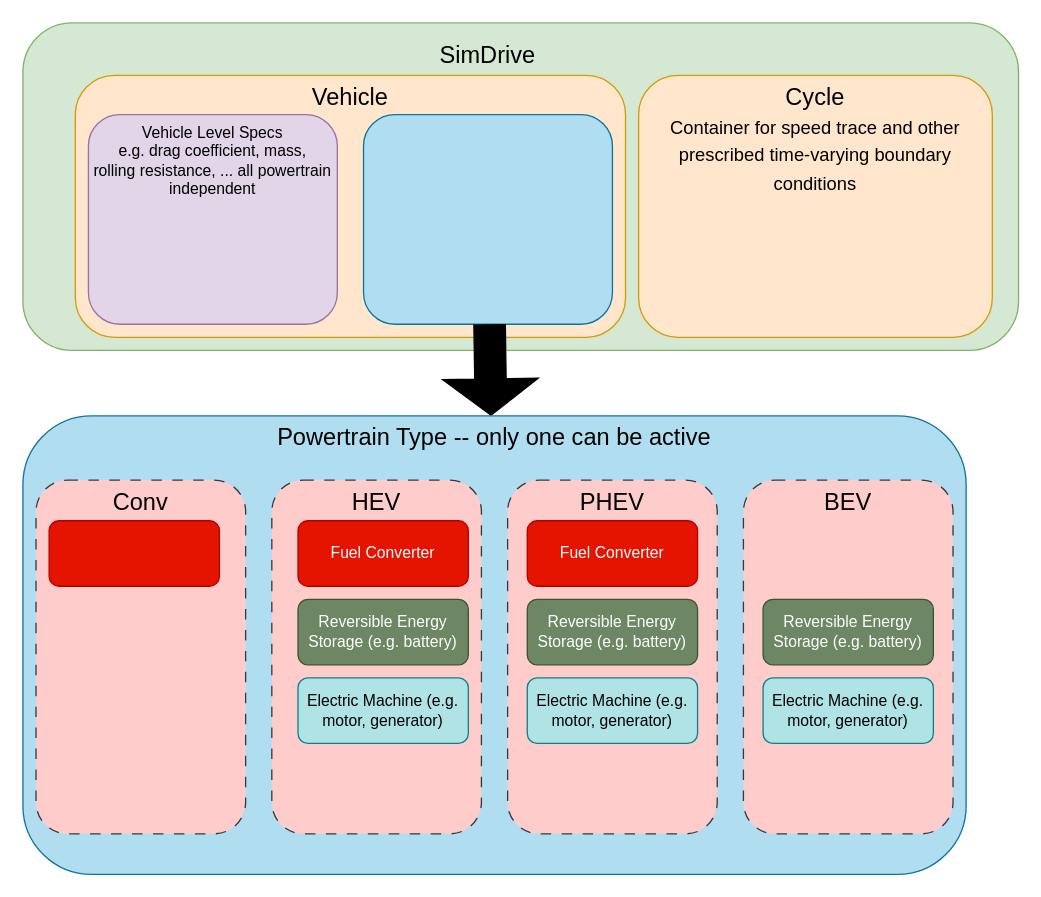
Some shapes in this 1041 by 897 pixel diagram are drawn without their labels. Here are the shapes that lost their labels. From the top down, the centre of each, then its label:
At [487,218]: "Powertrain Type".
At [133,552]: "Fuel Converter (e.g. engine)".
